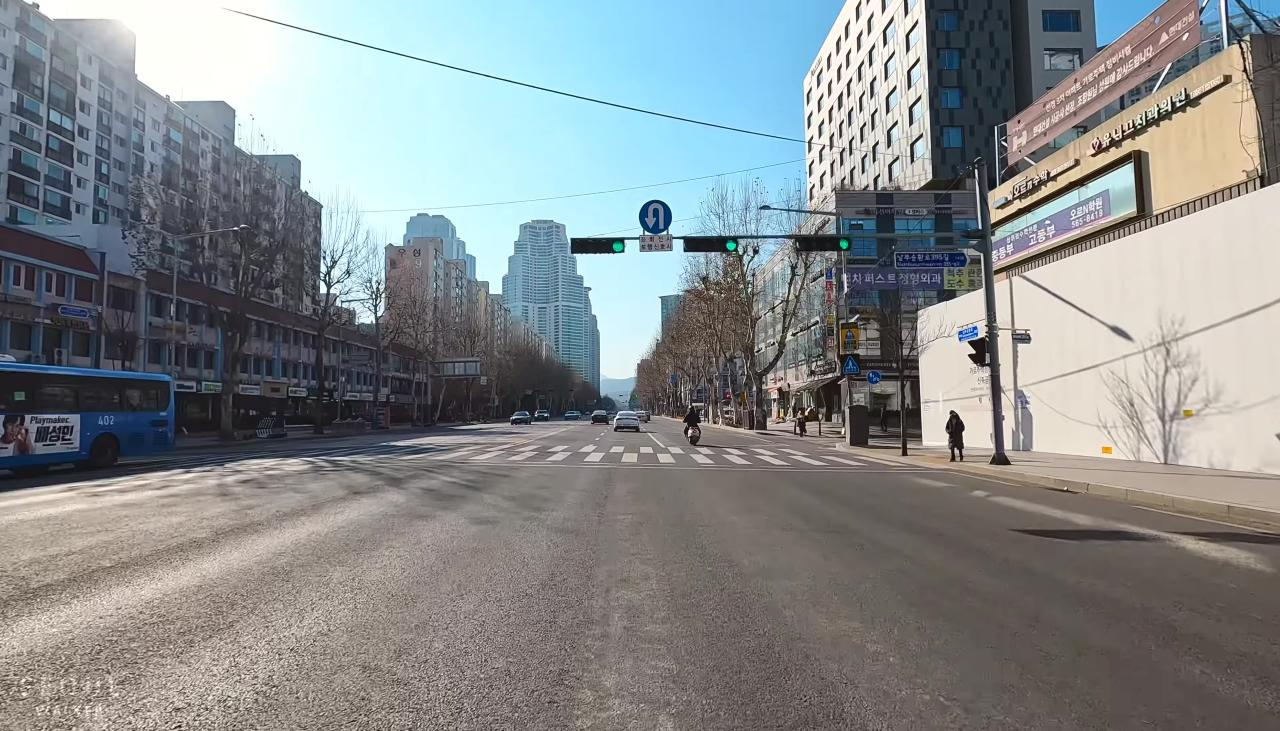Green Light: (725, 237, 738, 251), (839, 237, 850, 252), (612, 240, 624, 253)
